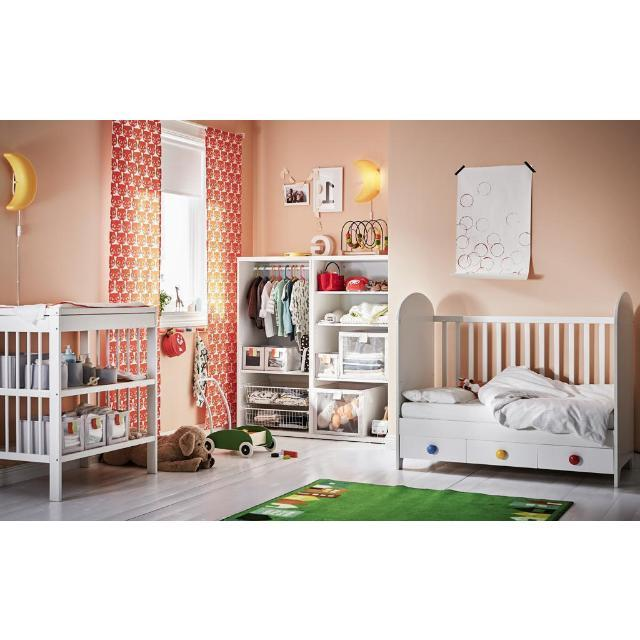curtain: (106, 119, 161, 434), (205, 126, 244, 432)
dresser: (238, 254, 389, 441)
lamp: (4, 152, 38, 210), (354, 159, 380, 201)
rug: (224, 479, 572, 521)
shelf: (0, 304, 158, 501)
wall-art: (454, 163, 532, 279)
